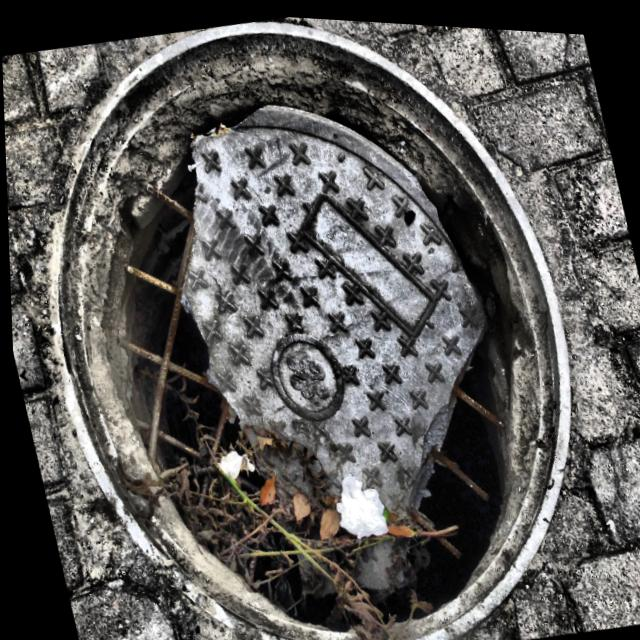open_manhole: (155, 114, 515, 640)
